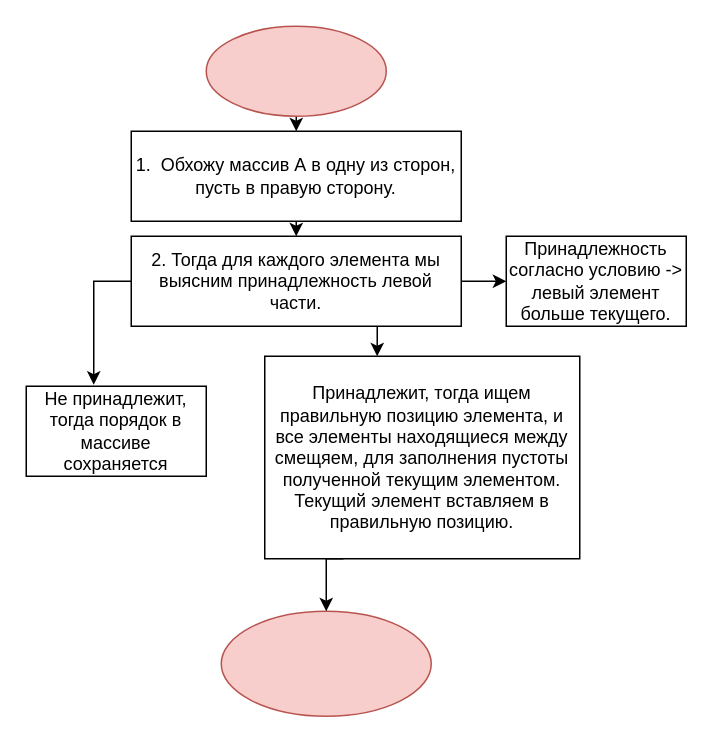
The diagram is 713 pixels wide and 743 high, and some of its shapes have lost their labels. Here are the shapes that lost their labels. From the top down, the centre of each, then its label:
At pixel 295 70: "Вход (ссылка на массива А)".
At pixel 325 663: "Выход (элементы по ссылке массива А отсортированы)".
